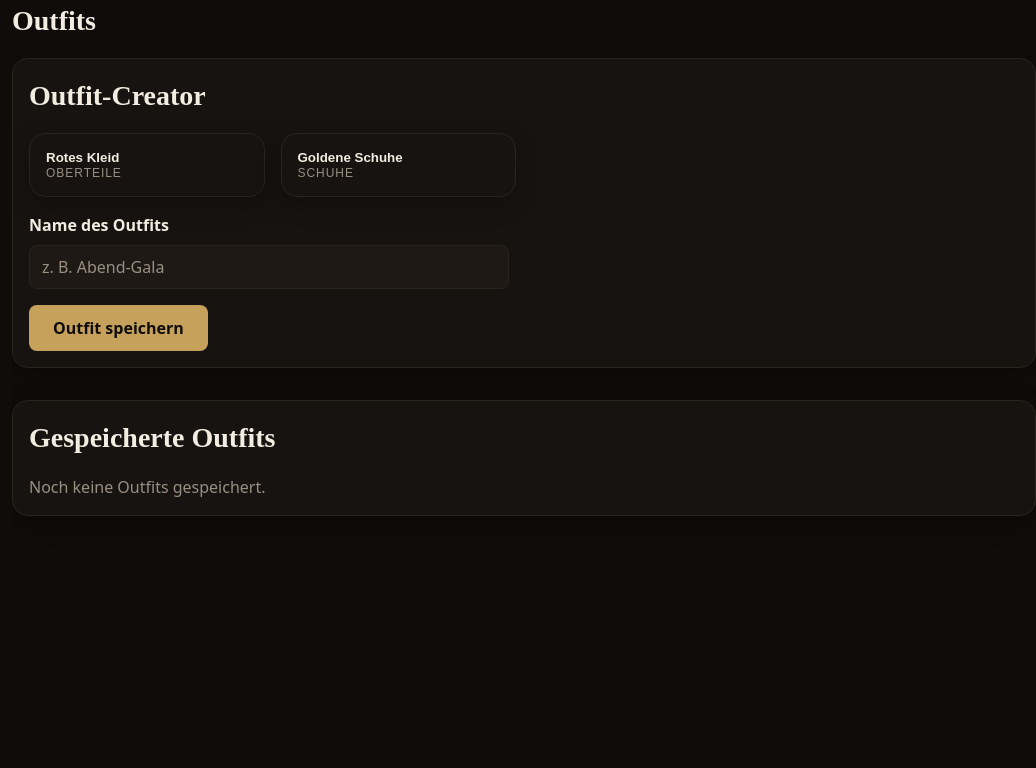
Scenario: Outfits › kombiniert Kleidungsstücke und speichert sie als Outfit
Expected: the text "Rotes Kleid" is shown, [46, 150, 119, 165]
Click the button "Rotes Kleid oberteile".
click(147, 165)  # box [29, 133, 264, 197]
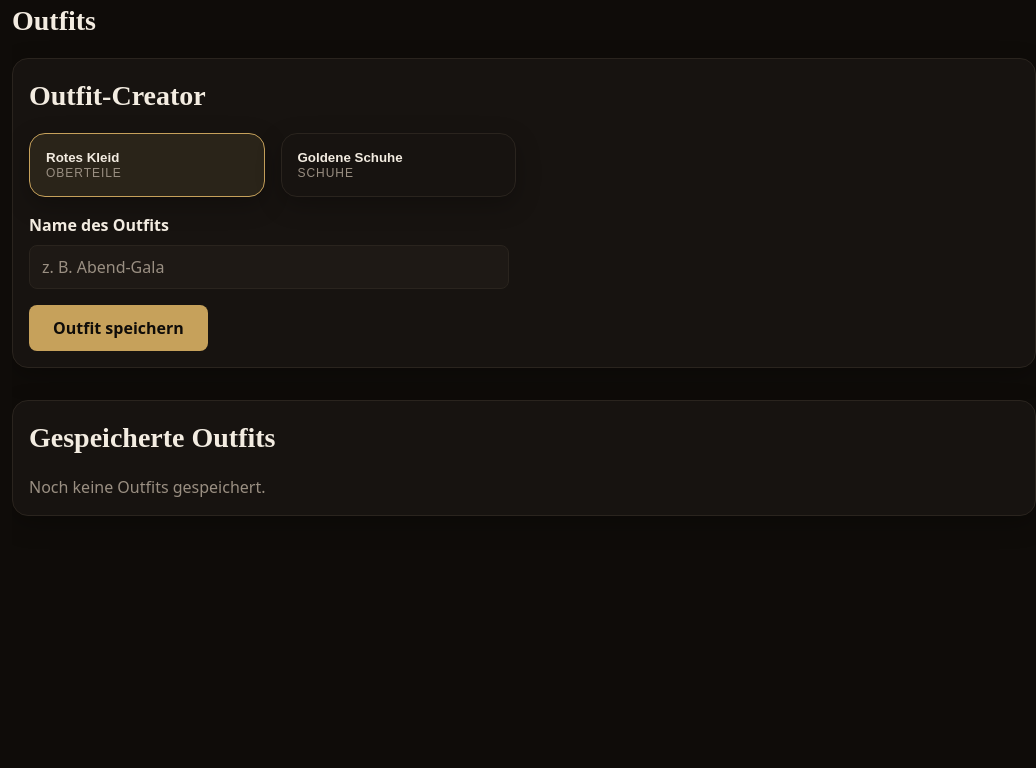
Click the button "Goldene Schuhe schuhe".
click(398, 165)  # box [280, 133, 516, 197]
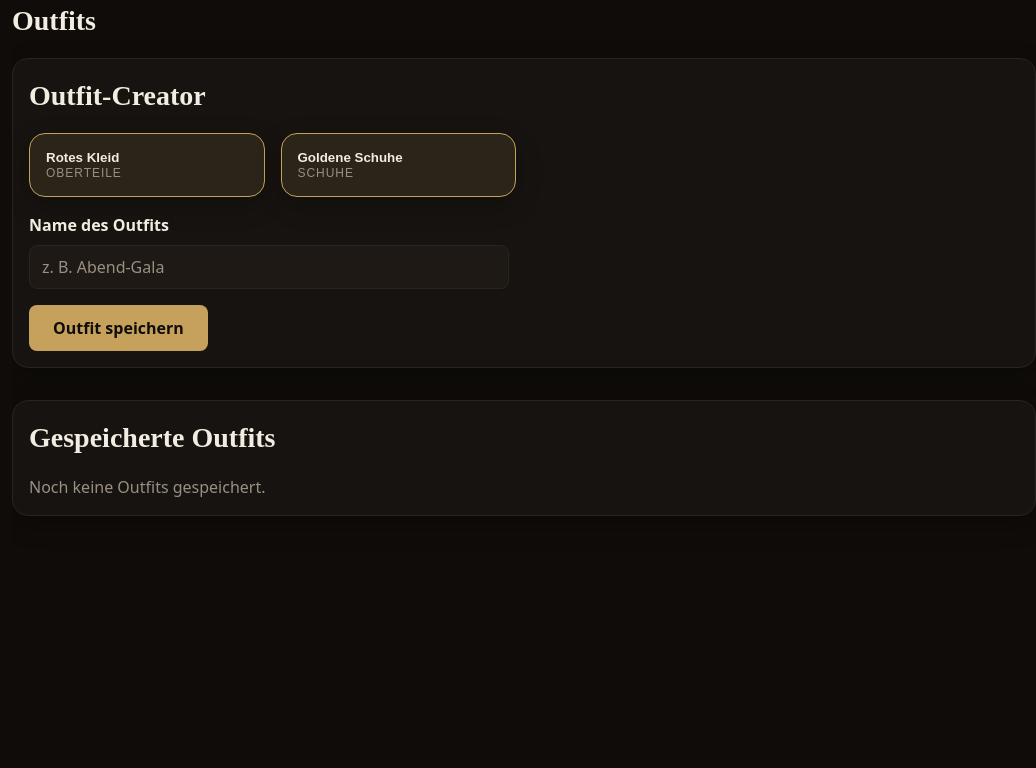
Type "Abend-Gala" into the field labelled "Name des Outfits".
click(269, 267); type("Abend-Gala")  # box [29, 245, 509, 289]
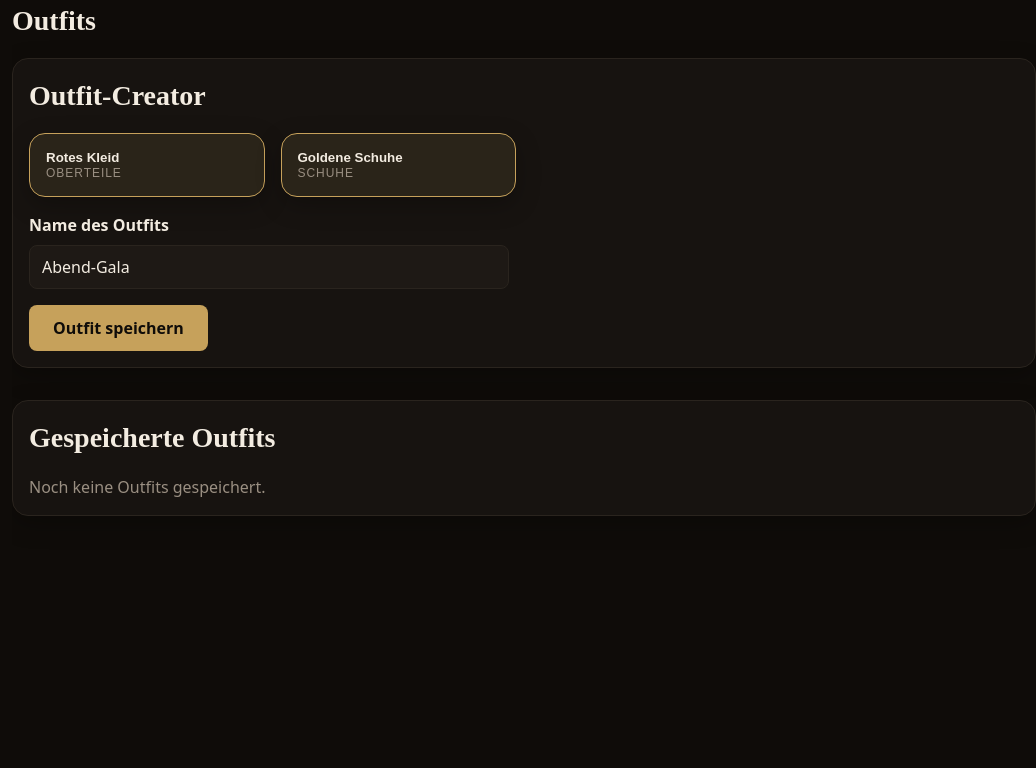
Click the button "Outfit speichern".
click(118, 328)  # box [29, 305, 208, 351]
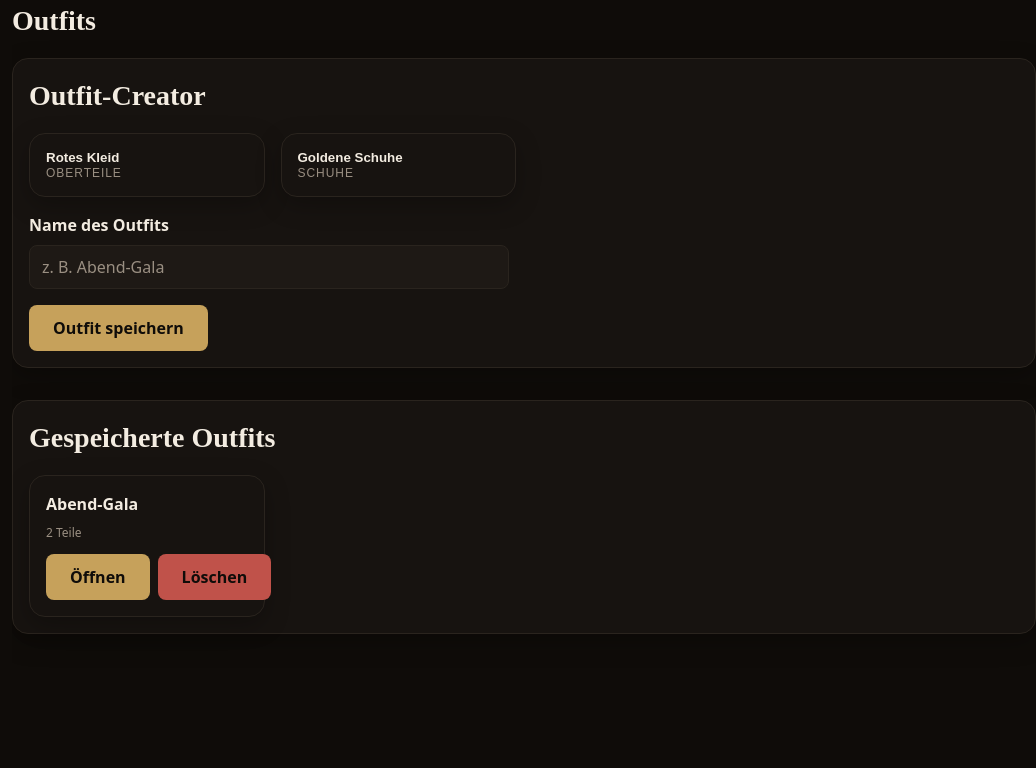
Expected: the text "Abend-Gala" is shown, [46, 493, 138, 515]
